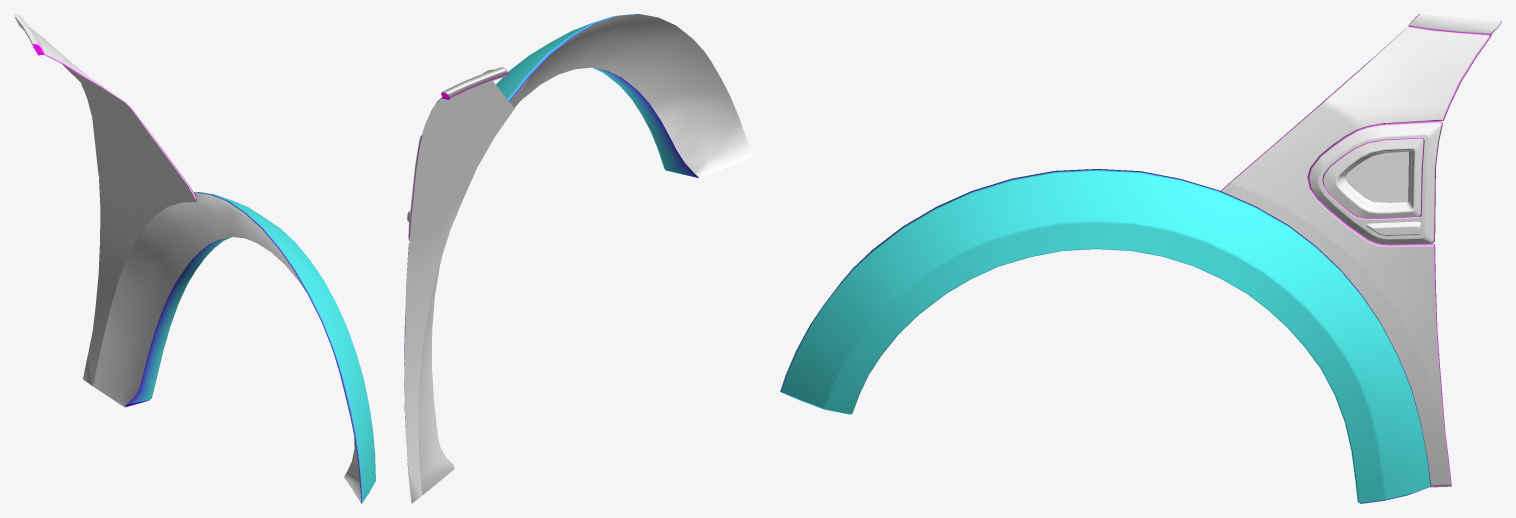
File: Car_Mini_CountrymanJCW_2017_FenderFL_SetB.fbx
3 renders of one model, left to right at view 1: azimuth 30°, elevation 25°; view 2: azimuth 150°, elevation 25°; view 3: azimuth 270°, elevation 25°, orthographic. The views are drawn at different scales.
Visible parts, largest first — view 1: FenderFL 6; view 2: FenderFL 6; view 3: FenderFL 6.
Boxes of the visible parts, left/top/right/bottom form: FenderFL 6: left=14, top=14, right=375, bottom=503; FenderFL 6: left=404, top=14, right=751, bottom=503; FenderFL 6: left=780, top=14, right=1501, bottom=503.
Size of the model in its own units: 0.2645 by 0.7502 by 1.12.
